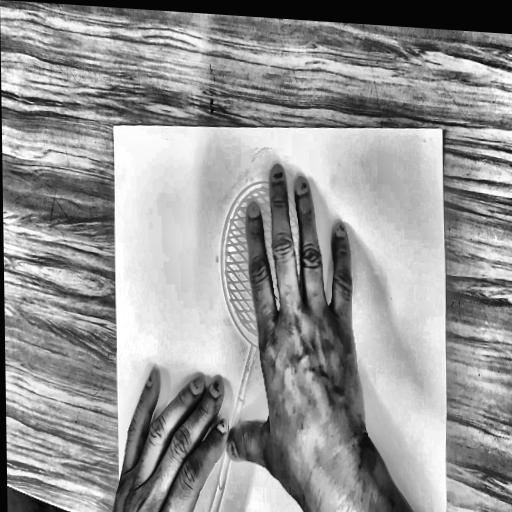badminton: (186, 172, 379, 512)
top_left: (110, 121, 117, 132)
top_right: (438, 124, 446, 135)
